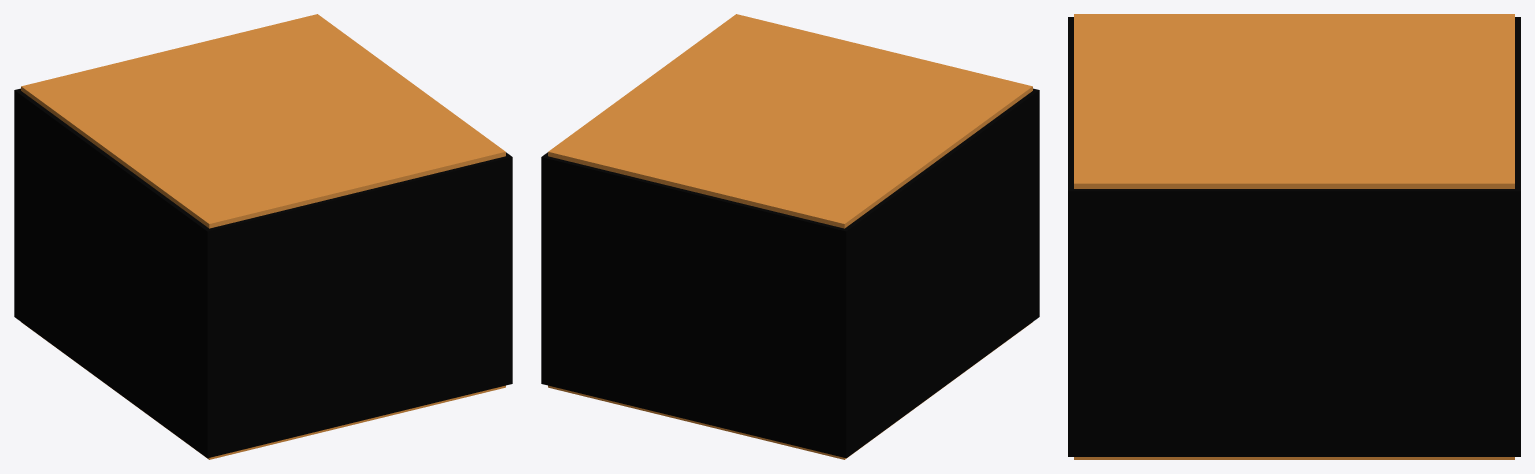
File: dai1.fbx
3 renders of one model, left to right at view 1: azimuth 30°, elevation 25°; view 2: azimuth 150°, elevation 25°; view 3: azimuth 270°, elevation 25°, orthographic. The views are drawn at different scales.
Parts seen in each view (by area): view 1: 立方体, 立方体.001; view 2: 立方体, 立方体.001; view 3: 立方体, 立方体.001.
Part boxes in pixels (x1,y1,x2,y2): 立方体: (14, 88, 512, 458); 立方体.001: (21, 14, 505, 459); 立方体: (541, 88, 1039, 458); 立方体.001: (548, 14, 1032, 459); 立方体: (1068, 17, 1520, 456); 立方体.001: (1074, 14, 1514, 459).
Bounding box in the file's own units: 3.52 × 2.6 × 3.86.
